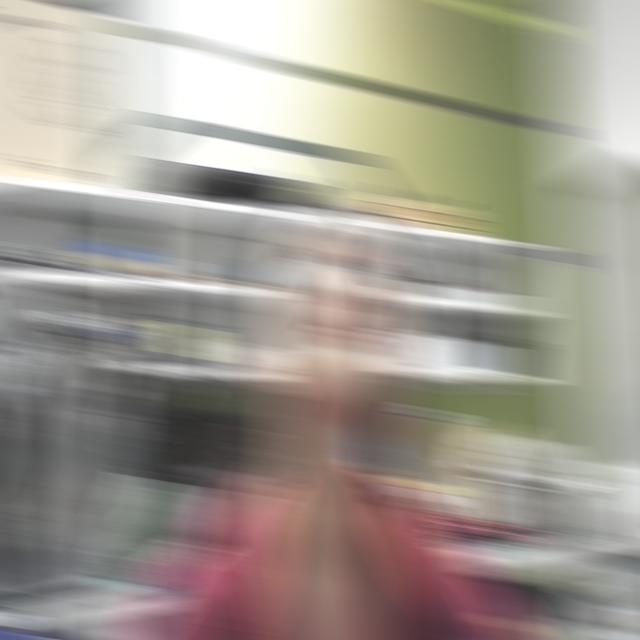Without Helmet: (234, 149, 443, 468)
